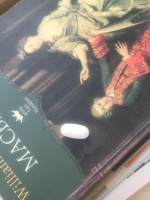Centik Buskopan: (60, 122, 89, 141)
